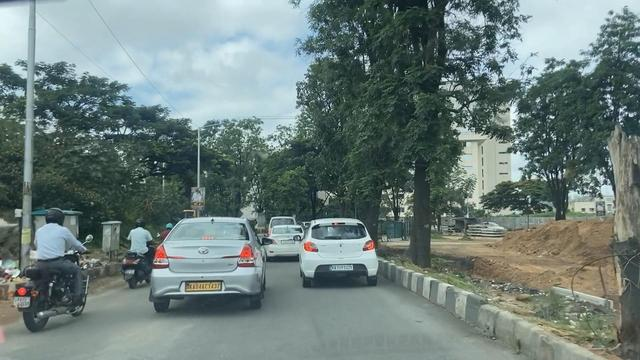LMV: (160, 229, 255, 304), (25, 211, 87, 323), (305, 224, 372, 278), (127, 223, 148, 285)
